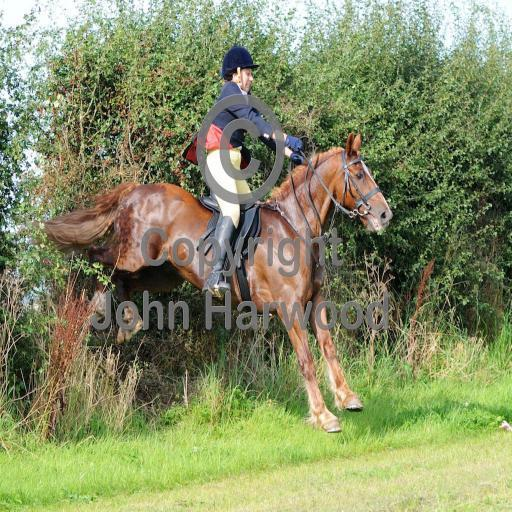horse: (36, 128, 394, 432)
